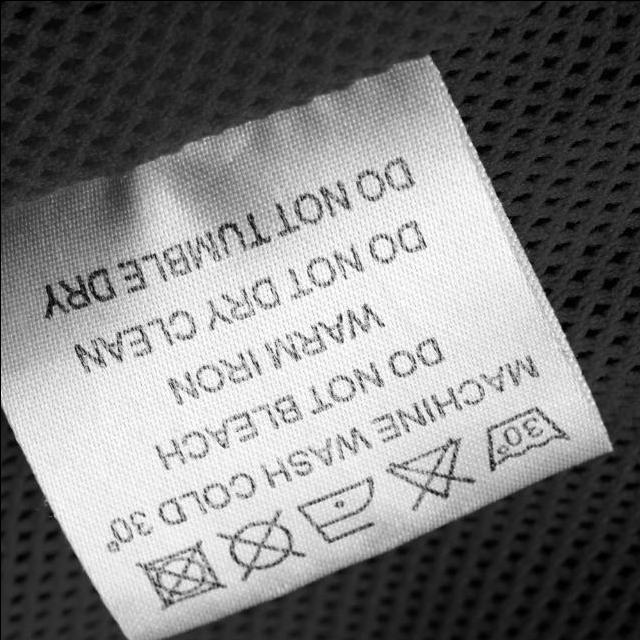30C: (483, 403, 572, 475)
DN_bleach: (382, 434, 478, 514)
DN_dry_clean: (212, 507, 306, 585)
DN_tumble_dry: (130, 538, 228, 612)
iron_low: (293, 473, 377, 549)
